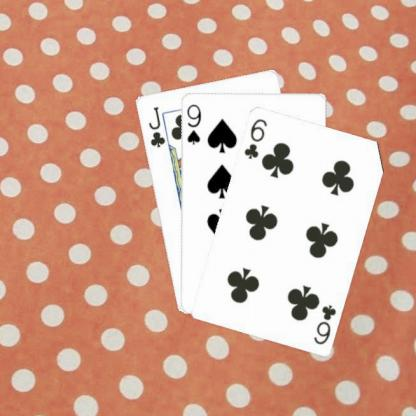6C: (241, 115, 269, 160), (311, 301, 337, 345)
9S: (183, 100, 202, 146)
JC: (145, 103, 166, 149)
